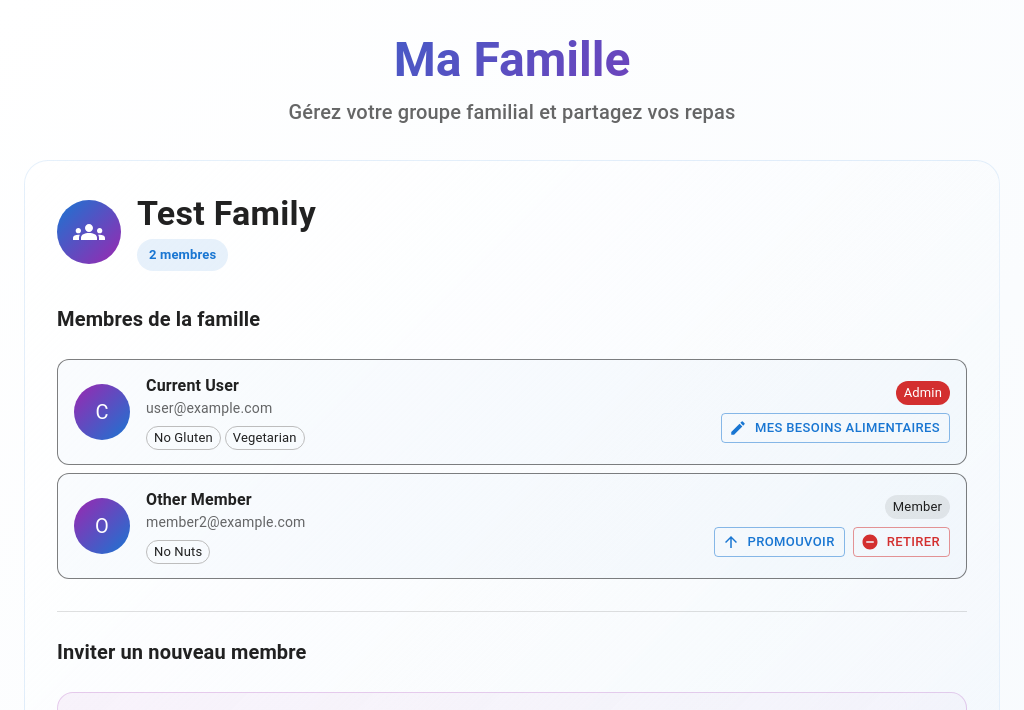
FamilyPage - Dietary Restrictions › Edit Dialog Functionality - Delete › a restriction can be deleted from the dialog
Check: the text "No Gluten" is shown, box x1=154 y1=430 x2=213 y2=445
Click the button "Mes Besoins Alimentaires": (836, 428) x1=721 y1=413 x2=950 y2=443
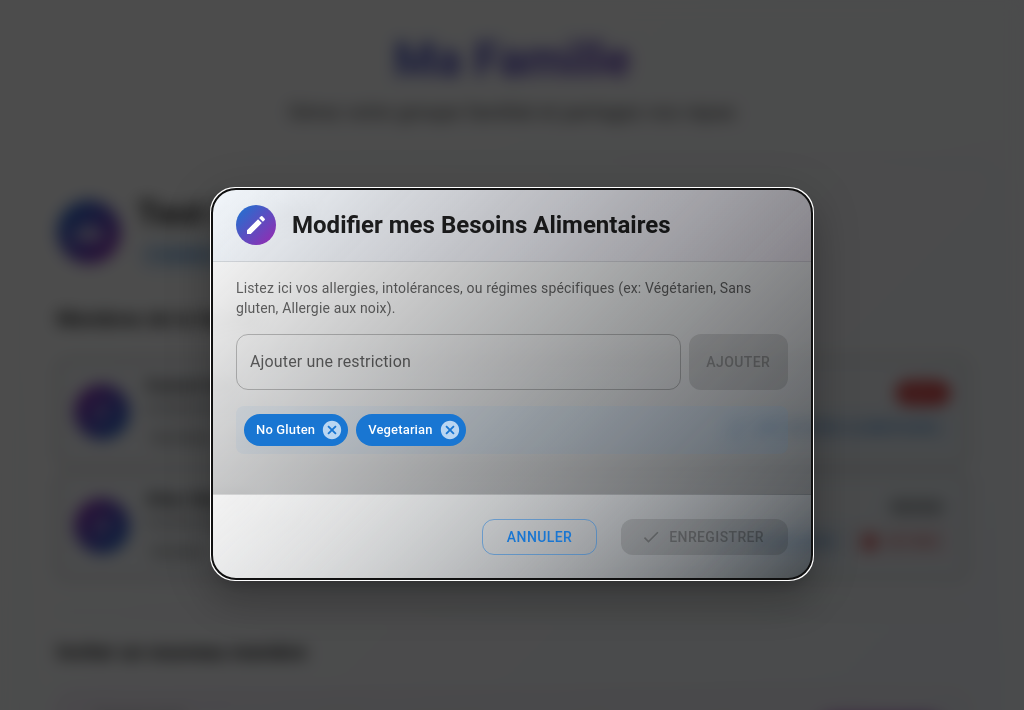
Check: the dialog is shown, box x1=212 y1=189 x2=812 y2=579
Check: the 1st icon with test id "CancelIcon" is shown
Click the 1st icon with test id "CancelIcon": (332, 430) x1=321 y1=419 x2=343 y2=441
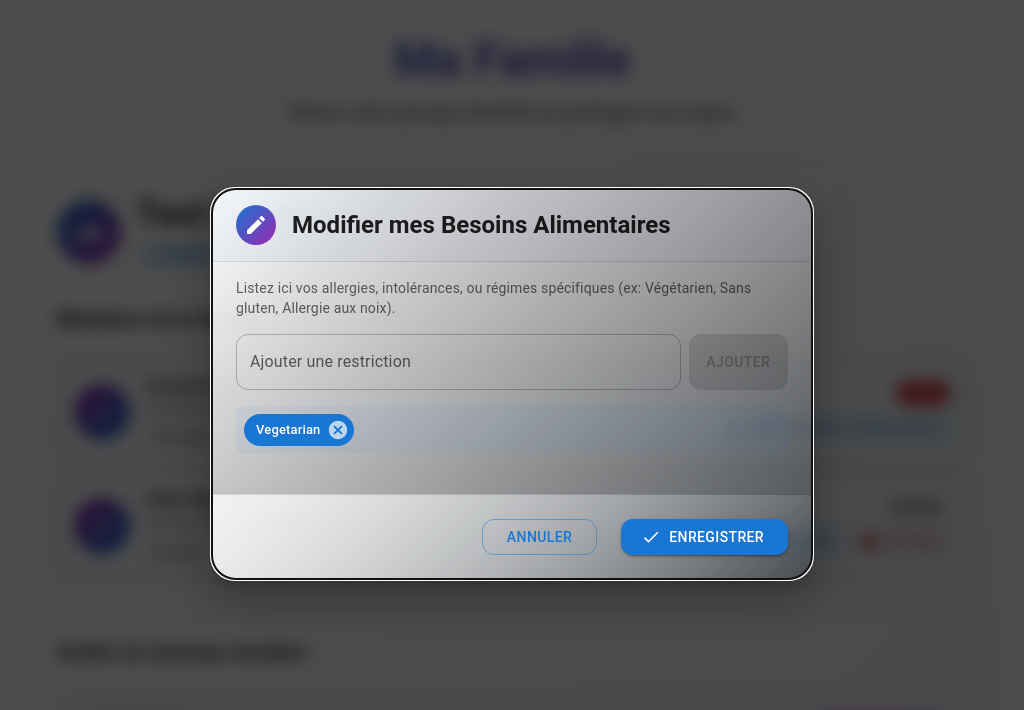
Check: the text "Vegetarian" is shown, box x1=256 y1=422 x2=320 y2=437
